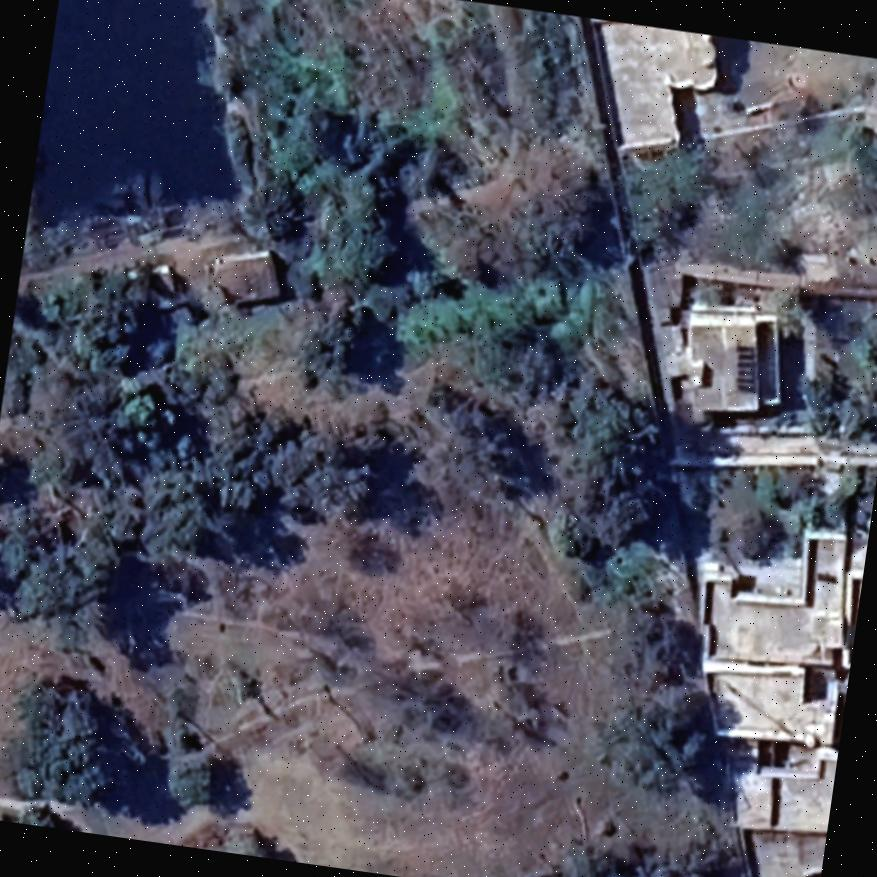Solarpanel: (726, 338, 766, 398)
